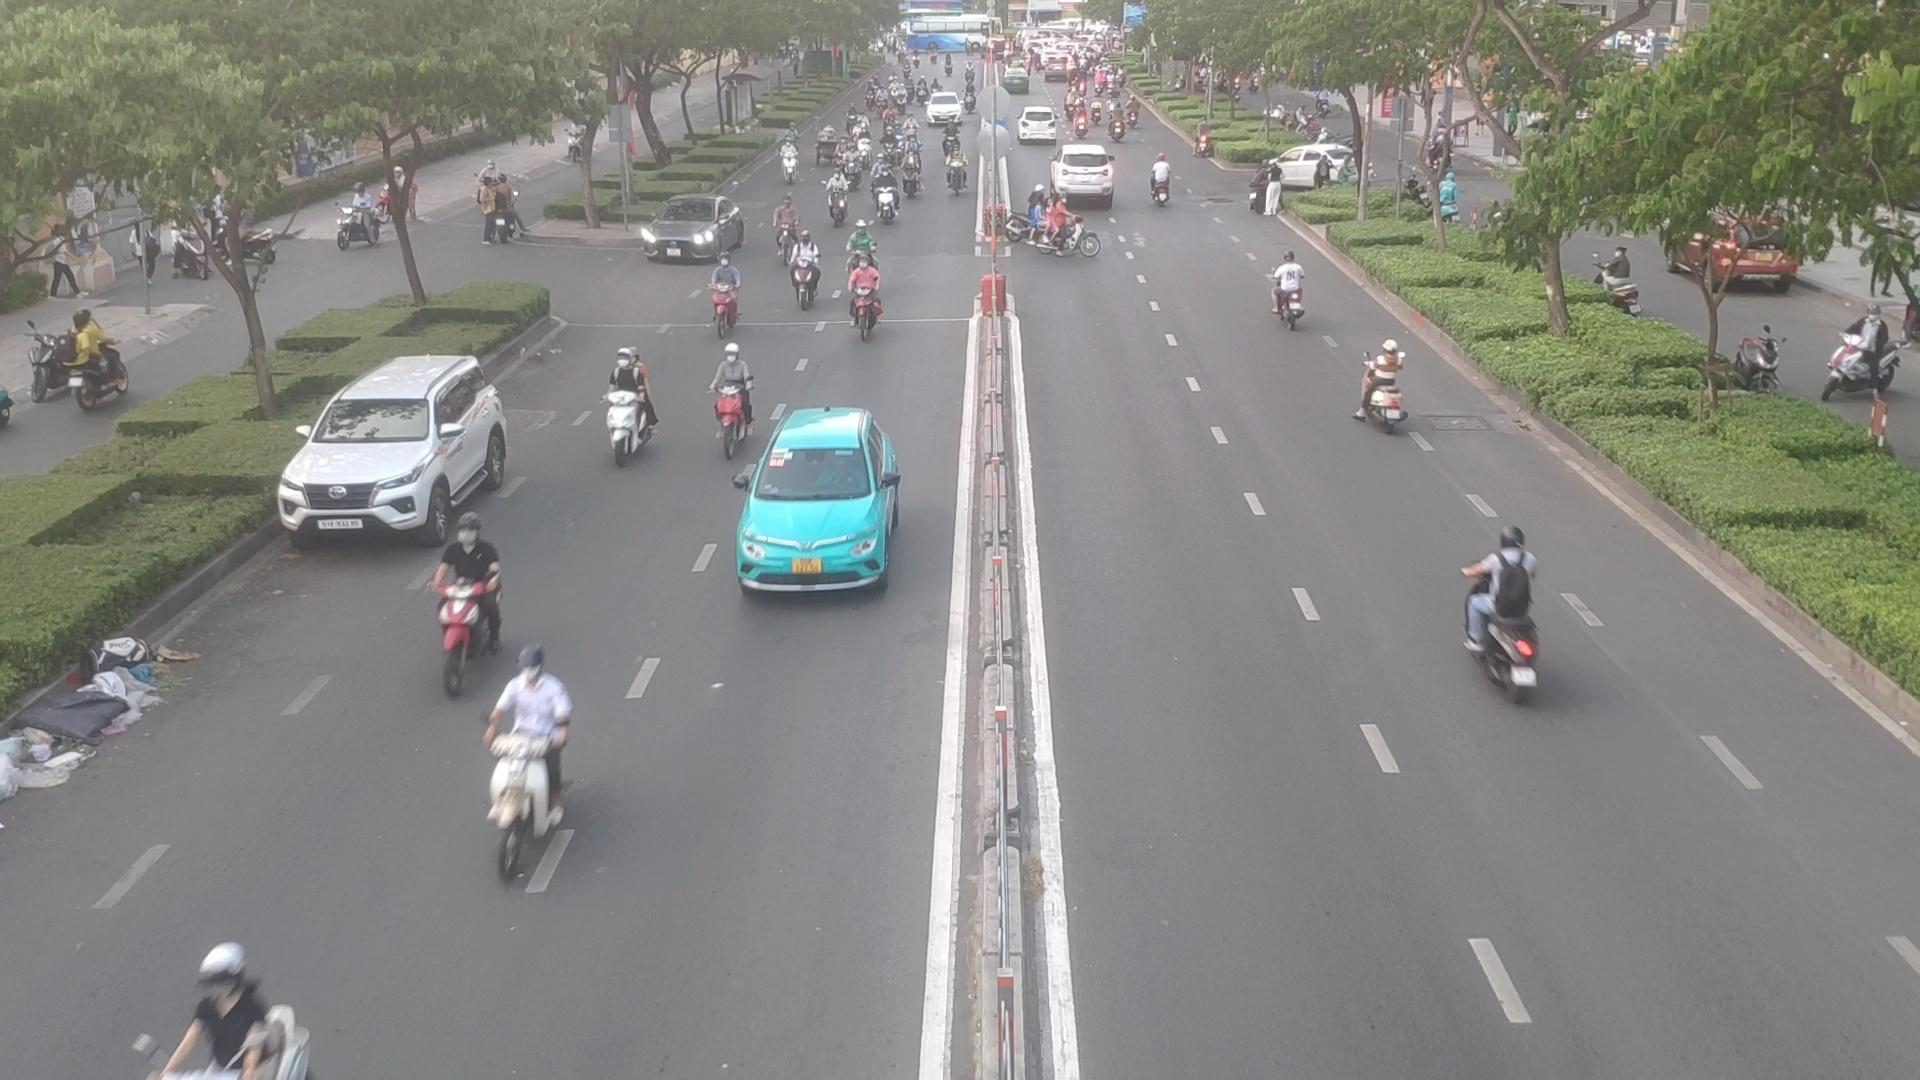car: (268, 349, 517, 543), (742, 404, 909, 591), (634, 196, 746, 262), (1265, 138, 1366, 196), (1055, 142, 1120, 196)
motorbike: (483, 640, 583, 839), (1456, 521, 1542, 708), (429, 517, 493, 676), (597, 352, 661, 465), (709, 255, 767, 345), (1026, 199, 1101, 258), (1365, 335, 1407, 436), (717, 334, 749, 444), (848, 249, 889, 330), (1271, 255, 1313, 330), (782, 225, 819, 309), (848, 220, 880, 278), (816, 165, 851, 218), (1146, 153, 1178, 200), (873, 162, 893, 219), (947, 148, 969, 191), (844, 149, 866, 193), (781, 142, 802, 187), (897, 153, 916, 193), (942, 120, 964, 152), (882, 128, 897, 162), (836, 137, 847, 167)
